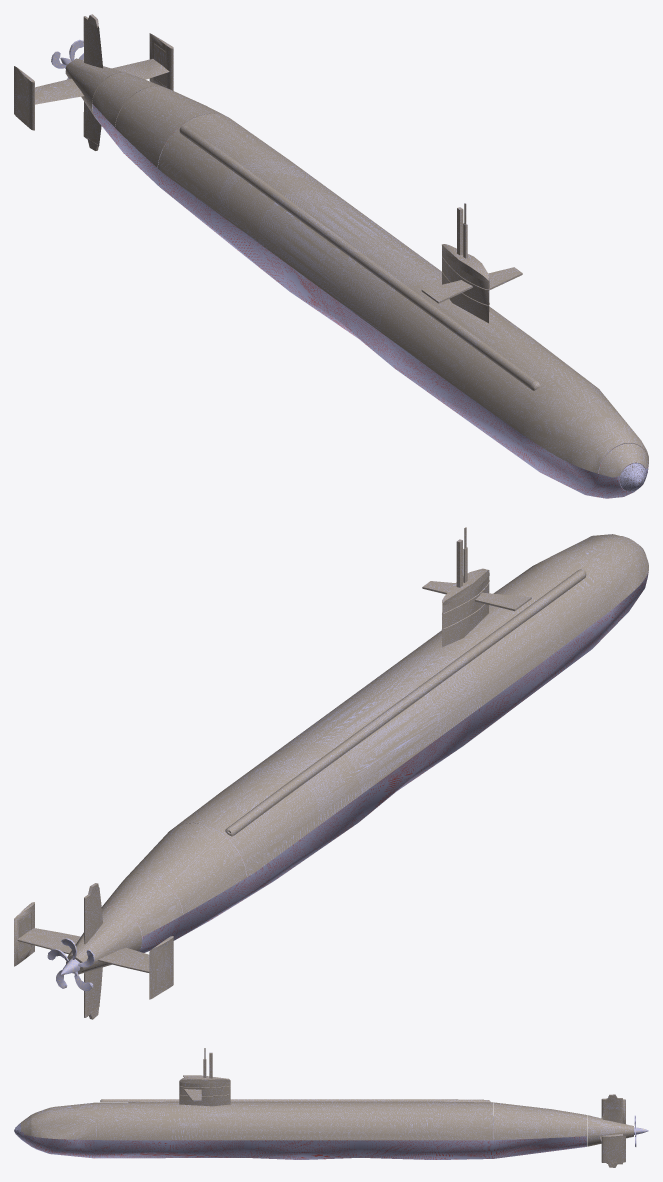
3 views of the same model, one above another, from view 1: azimuth 30°, elevation 25°; view 2: azimuth 150°, elevation 25°; view 3: azimuth 270°, elevation 25° (orthographic). The views are drawn at different scales.
Visible parts, largest first — view 1: Material2, Material3, Material3.001; view 2: Material2, Material3, Material3.001; view 3: Material2, Material3, Material3.001.
Part boxes in pixels (x1,y1,x2,y2): Material2: [14, 14, 648, 477]; Material3: [14, 14, 648, 498]; Material3.001: [93, 105, 647, 498]; Material2: [14, 527, 648, 1019]; Material3: [14, 529, 648, 1018]; Material3.001: [142, 573, 648, 952]; Material2: [21, 1048, 633, 1167]; Material3: [14, 1049, 648, 1167]; Material3.001: [21, 1132, 586, 1159].
Bounding box in the file's own units: 5721 × 8377 × 40351.
